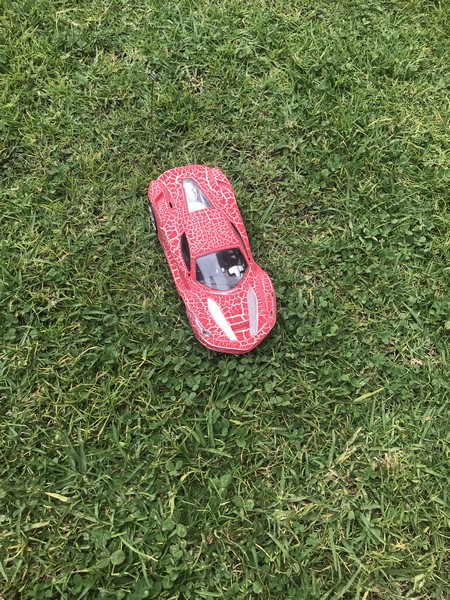RC: (146, 164, 280, 355)
